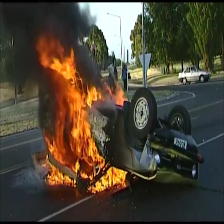fire_h: (37, 34, 105, 179), (87, 167, 128, 194), (45, 168, 76, 186), (106, 81, 124, 106)
fire_l: (41, 154, 54, 168)
